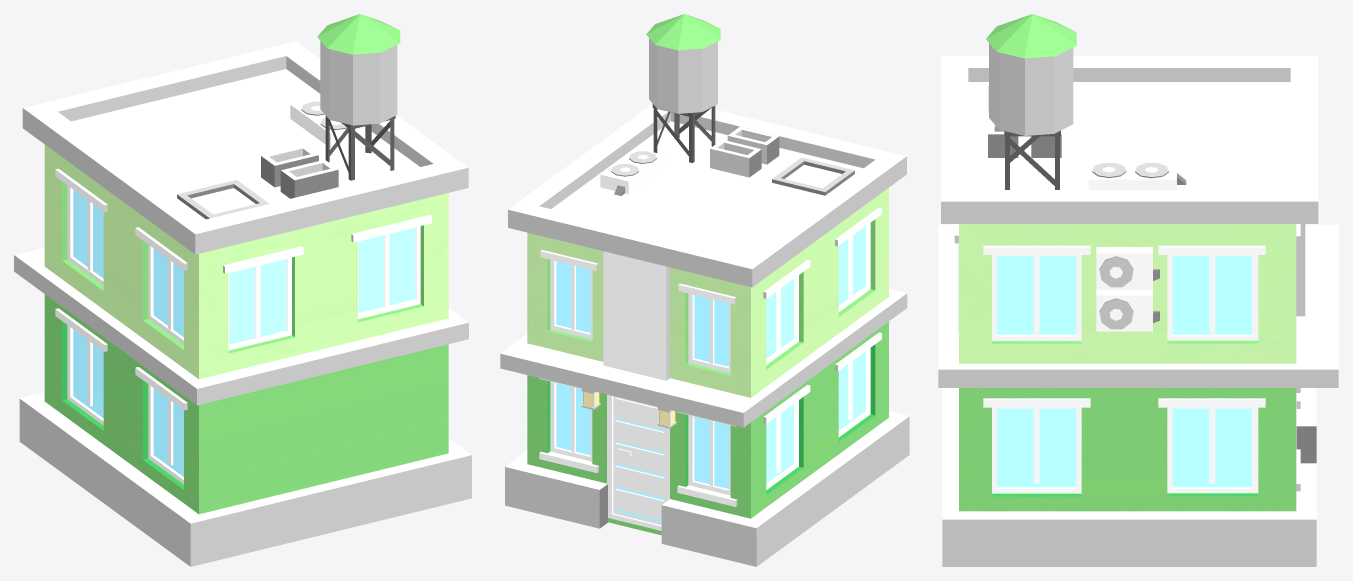
Rendered from dwelling.glb.
3 renders of one model, left to right at view 1: azimuth 30°, elevation 25°; view 2: azimuth 150°, elevation 25°; view 3: azimuth 270°, elevation 25°, orthographic. The views are drawn at different scales.
Visible parts, largest first — view 1: dwelling(Clone); view 2: dwelling(Clone); view 3: dwelling(Clone).
Boxes of the visible parts, x1=… form: dwelling(Clone): x1=14, y1=14, x2=471, y2=566; dwelling(Clone): x1=500, y1=14, x2=909, y2=566; dwelling(Clone): x1=938, y1=14, x2=1338, y2=566.
Size of the model in its own units: 5.06 by 8.11 by 5.71.
Materials: 1 (1 with a texture image).
